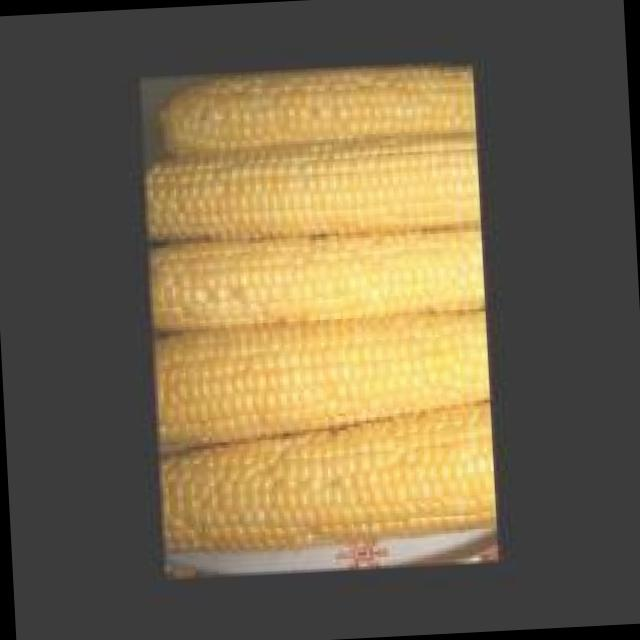corn: (143, 62, 504, 580)
